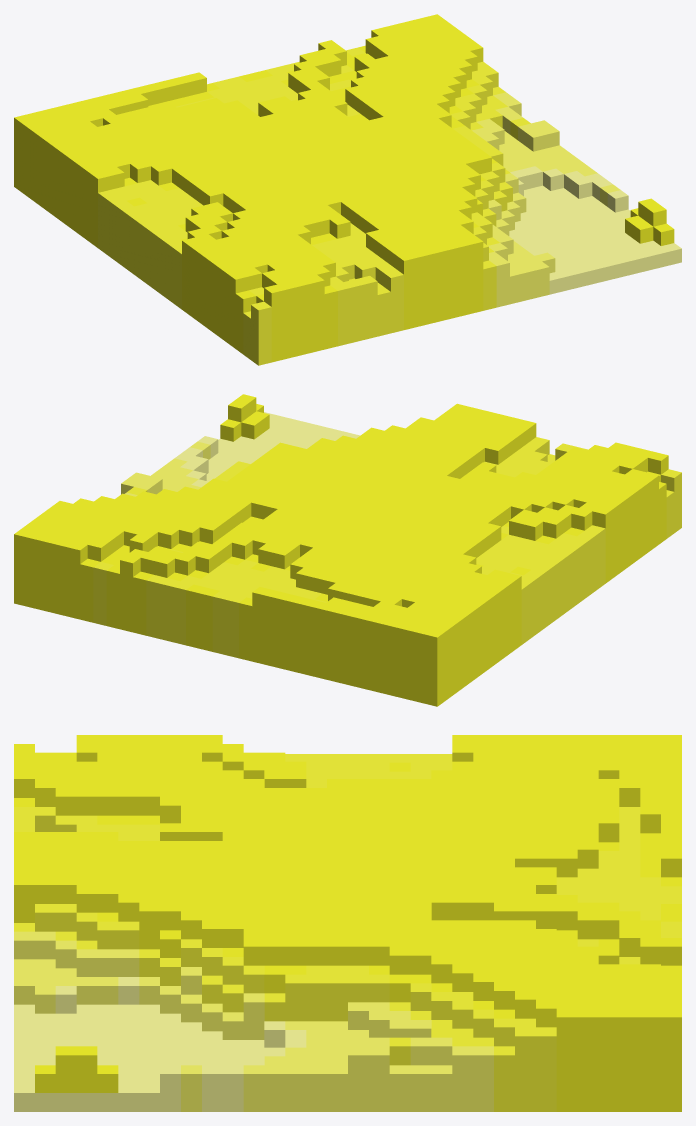
The model's file is Destert Map-14.obj.
3 renders of one model, top to bottom at view 1: azimuth 30°, elevation 25°; view 2: azimuth 150°, elevation 25°; view 3: azimuth 270°, elevation 25°, orthographic. The views are drawn at different scales.
Bounding box in the file's own units: 3.2 × 0.5 × 3.2.
1 material, 1 textured.
